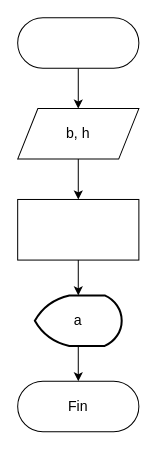
The diagram is 157 pixels wide and 449 high, and some of its shapes have lost their labels. The shapes that lost their labels are listed below. From the top down, each one's centre as x and y in pixels, then its label:
At [78,42]: "Inicio".
At [78,229]: "a = (b * h) / 2".
